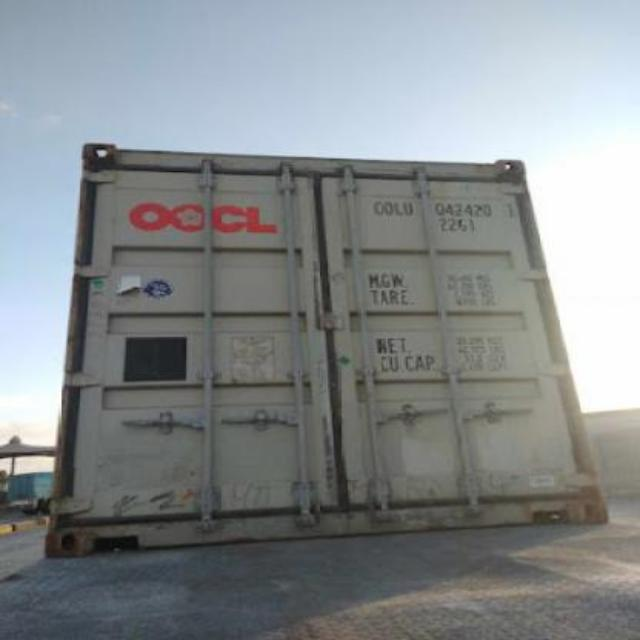0: (434, 196, 446, 220), (482, 201, 494, 219)
1: (504, 196, 520, 222)
2: (472, 194, 484, 222), (454, 190, 466, 218)
4: (446, 190, 459, 220), (464, 199, 474, 219)
L: (392, 197, 404, 220)
O: (382, 192, 394, 218), (372, 196, 382, 218)
U: (402, 196, 414, 220)
